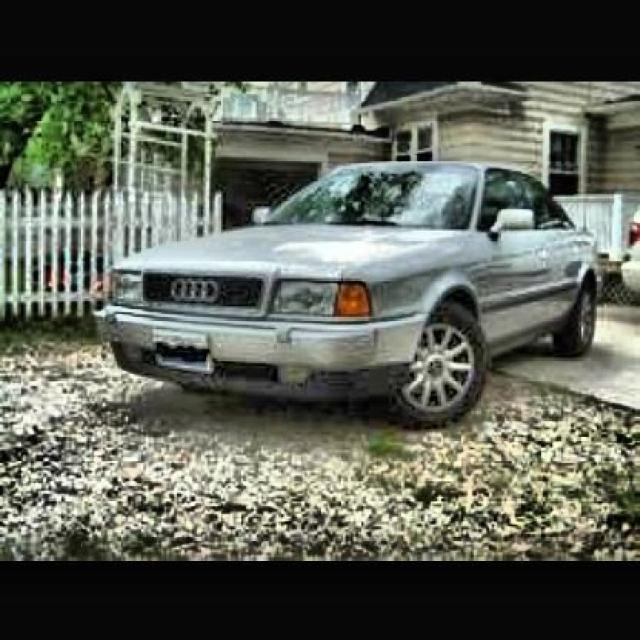silver: (105, 162, 605, 416)
